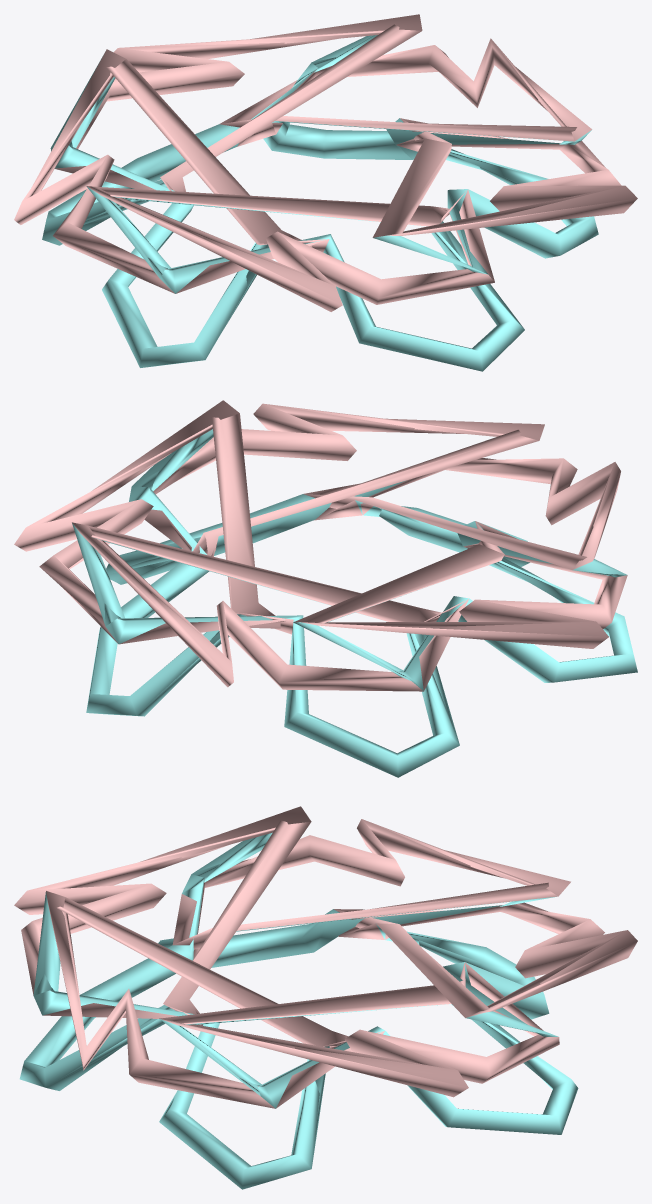
The model's file is MapE.glb.
3 renders of one model, top to bottom at view 1: azimuth 30°, elevation 25°; view 2: azimuth 150°, elevation 25°; view 3: azimuth 270°, elevation 25°, orthographic.
Visible parts, largest first — view 1: RegularMap_E; view 2: RegularMap_E; view 3: RegularMap_E.
Boxes of the visible parts, left/top/right/bottom form: RegularMap_E: left=14, top=14, right=637, bottom=371; RegularMap_E: left=14, top=400, right=637, bottom=777; RegularMap_E: left=14, top=806, right=637, bottom=1189.
Bounding box in the file's own units: 2.66 × 0.7296 × 2.68.
